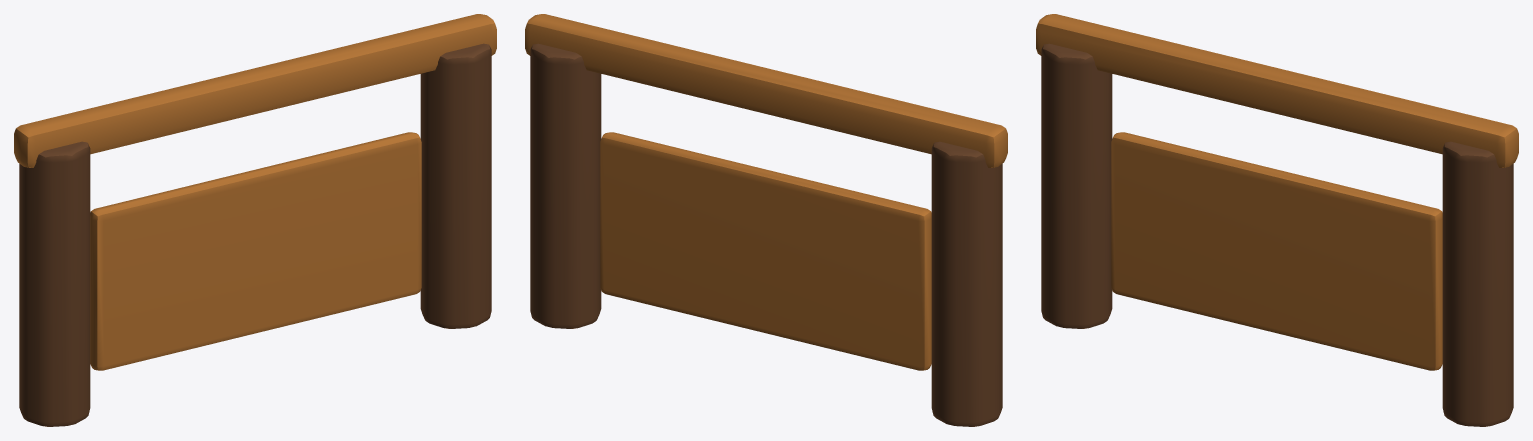
Rendered from prop_gate.glb.
3 renders of one model, left to right at view 1: azimuth 30°, elevation 25°; view 2: azimuth 150°, elevation 25°; view 3: azimuth 330°, elevation 25°, orthographic.
Visible parts, largest first — view 1: gate_door, gate_top, gate_post1, gate_post2; view 2: gate_door, gate_top, gate_post1, gate_post2; view 3: gate_door, gate_top, gate_post2, gate_post1.
Boxes of the visible parts, bbox=[...] form: gate_door: bbox=[90, 132, 421, 370]; gate_top: bbox=[14, 14, 496, 167]; gate_post1: bbox=[19, 141, 90, 426]; gate_post2: bbox=[420, 43, 491, 328]; gate_door: bbox=[600, 132, 931, 370]; gate_top: bbox=[525, 14, 1007, 167]; gate_post1: bbox=[931, 141, 1002, 426]; gate_post2: bbox=[530, 43, 601, 328]; gate_door: bbox=[1111, 132, 1442, 370]; gate_top: bbox=[1036, 14, 1518, 167]; gate_post2: bbox=[1442, 141, 1513, 426]; gate_post1: bbox=[1041, 43, 1112, 328].
Size of the model in its own units: 1.3 by 0.77 by 0.1737.
